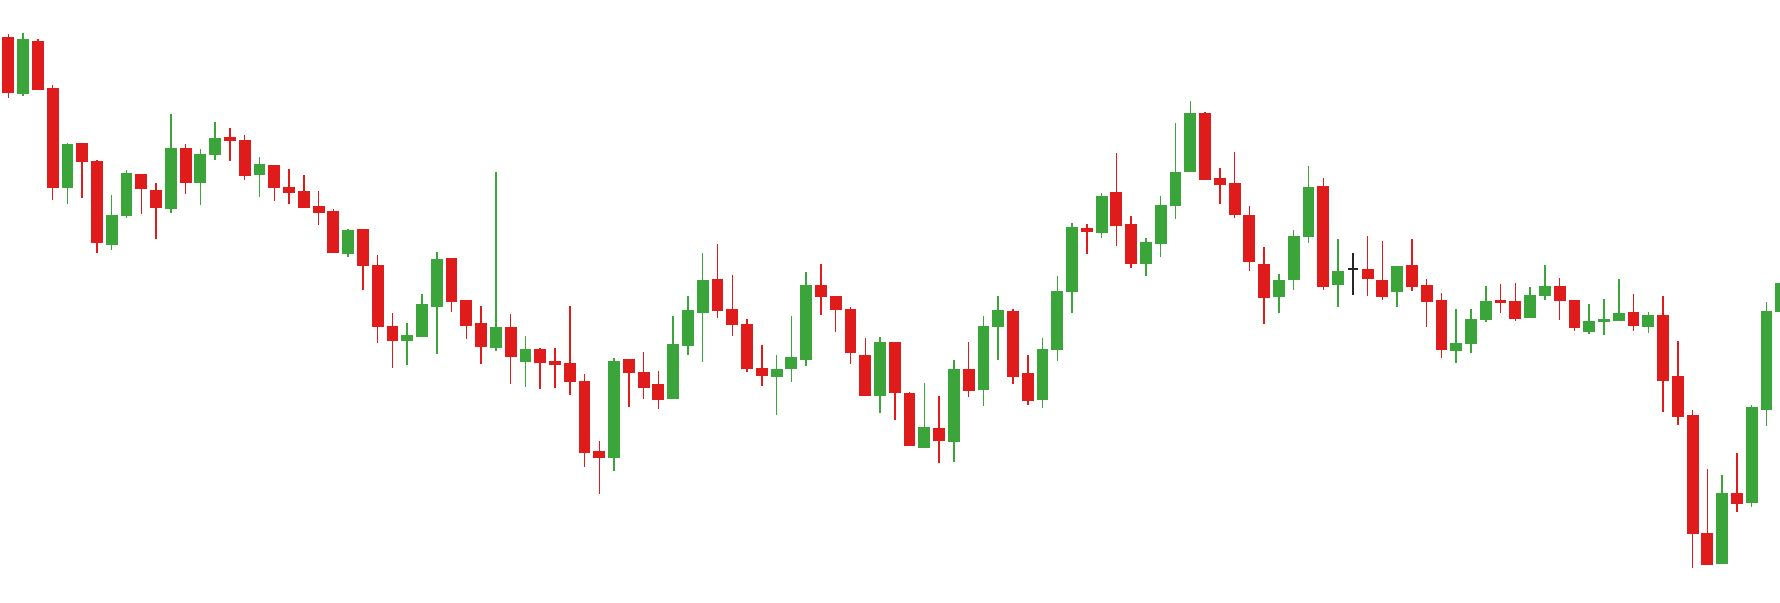buy: (960, 335, 1052, 412)
sell: (1111, 104, 1214, 225), (725, 266, 828, 353)
